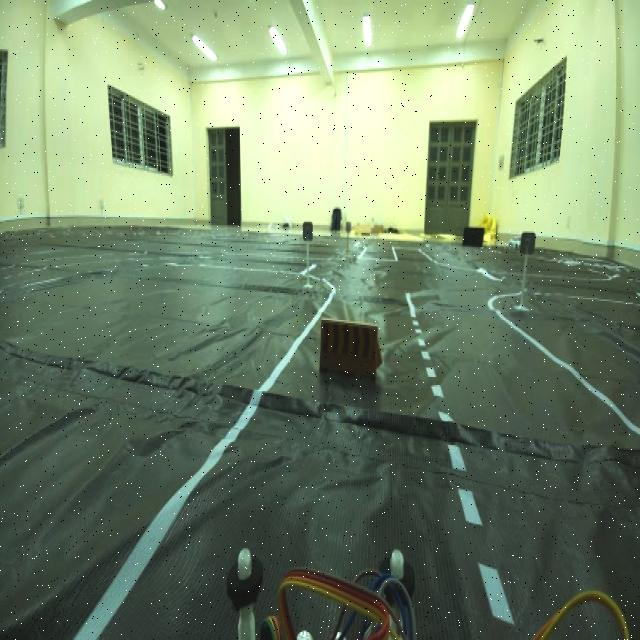roadblock: (316, 308, 388, 403)
